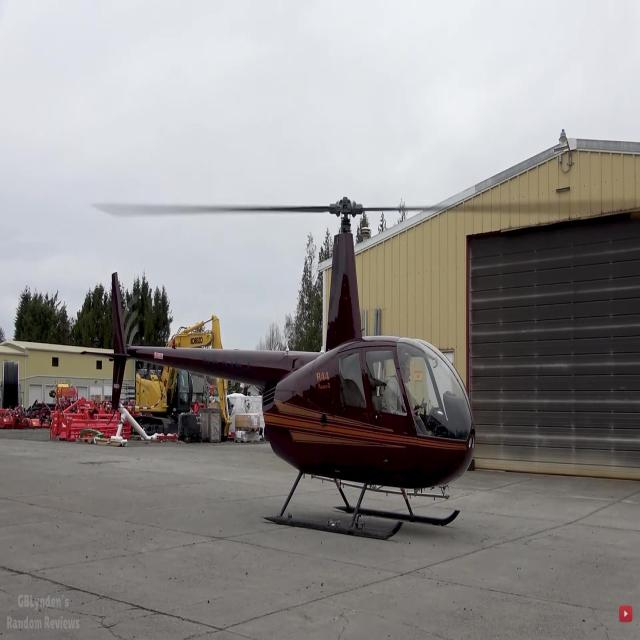CIV_HELO: (77, 192, 478, 544)
